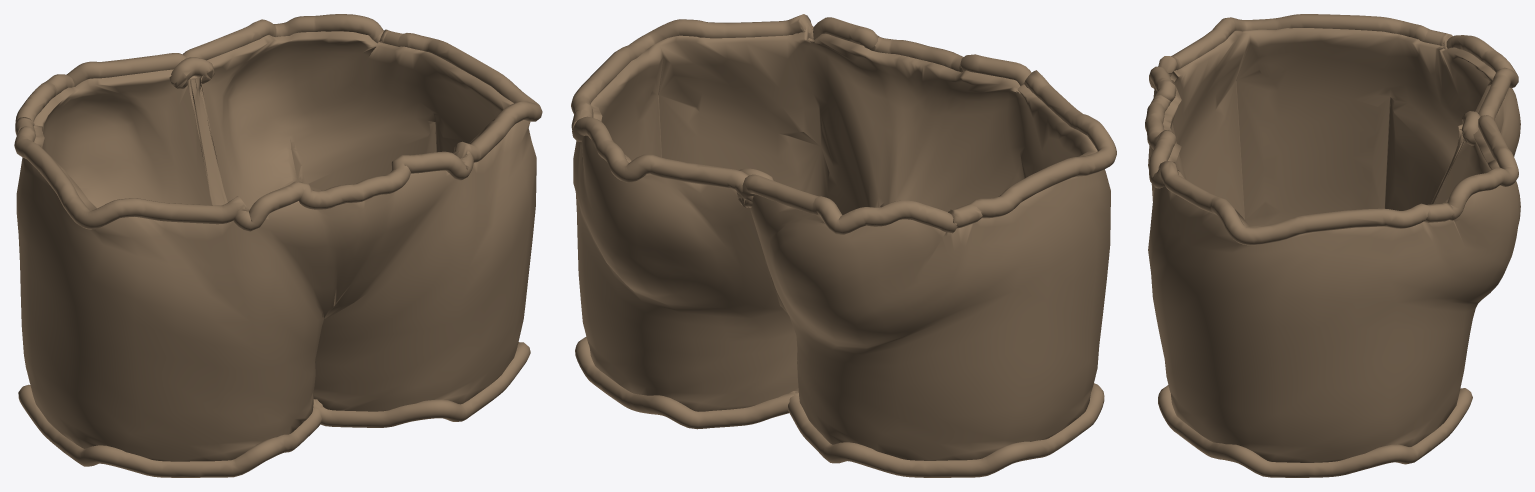
The model's file is 2HT-feminino.glb.
The picture shows the model from 3 angles, left to right: view 1: azimuth 30°, elevation 25°; view 2: azimuth 150°, elevation 25°; view 3: azimuth 270°, elevation 25°; orthographic projection. The views are drawn at different scales.
Visible parts, largest first — view 1: fitted-shell, bound-edge (×3); view 2: fitted-shell, bound-edge (×3); view 3: fitted-shell, bound-edge (×2).
Boxes of the visible parts, x1=… form: fitted-shell: x1=16, y1=31, x2=536, y2=461; bound-edge (×3): x1=14, y1=14, x2=542, y2=477; fitted-shell: x1=573, y1=23, x2=1110, y2=460; bound-edge (×3): x1=571, y1=14, x2=1116, y2=477; fitted-shell: x1=1148, y1=28, x2=1520, y2=462; bound-edge (×2): x1=1145, y1=14, x2=1518, y2=477.
Bounding box in the file's own units: 0.0371 × 0.0219 × 0.0274.
